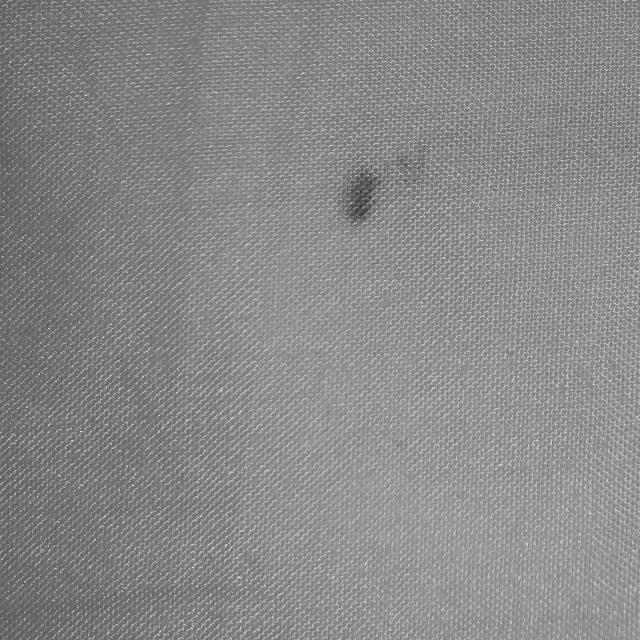Stain: (339, 146, 427, 223)
